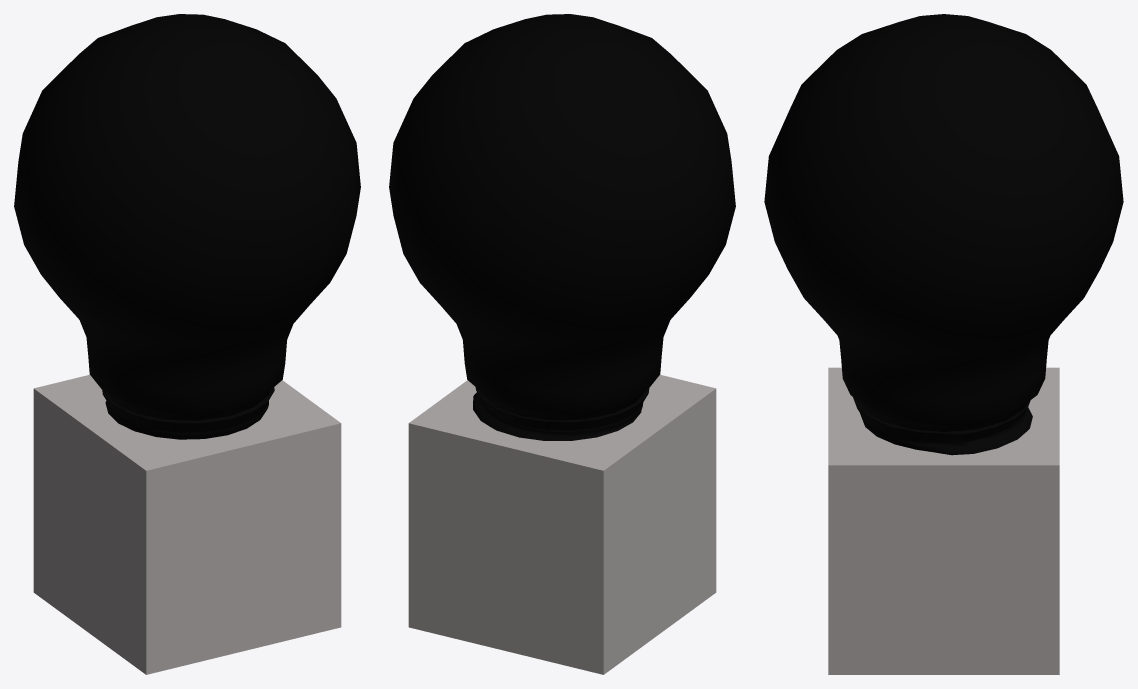
The model's file is Foco.obj.
3 renders of one model, left to right at view 1: azimuth 30°, elevation 25°; view 2: azimuth 150°, elevation 25°; view 3: azimuth 270°, elevation 25°, orthographic. The views are drawn at different scales.
Visible parts, largest first — view 1: Mesh1; view 2: Mesh1; view 3: Mesh1.
Boxes of the visible parts, <box> form: Mesh1: <box>14,14,360,674</box>; Mesh1: <box>389,14,735,674</box>; Mesh1: <box>764,14,1123,674</box>.
Size of the model in its own units: 0.4907 by 0.8981 by 0.4907.
